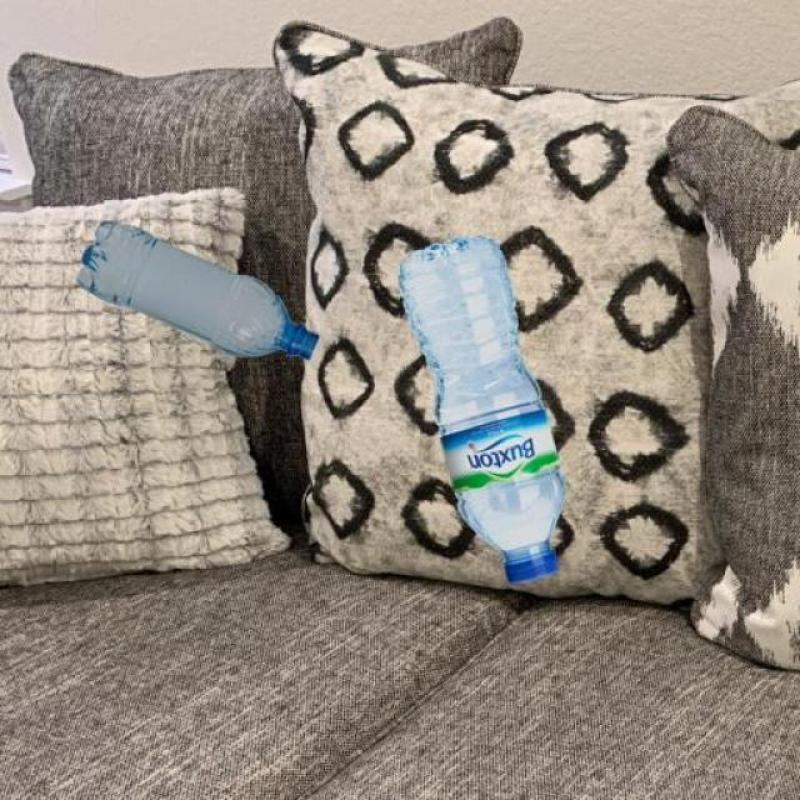botella: (396, 234, 565, 584), (75, 218, 319, 360)
